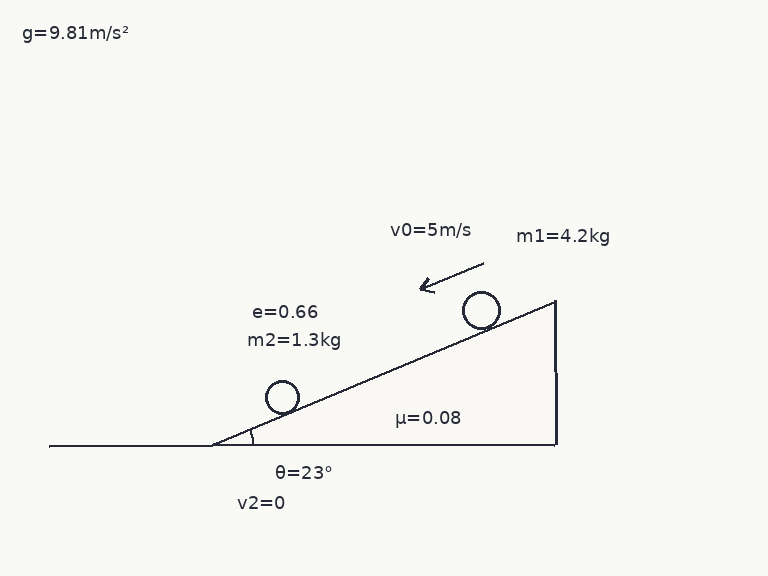ball: (460, 289, 502, 331), (263, 378, 301, 416)
ramp: (211, 298, 557, 447)
